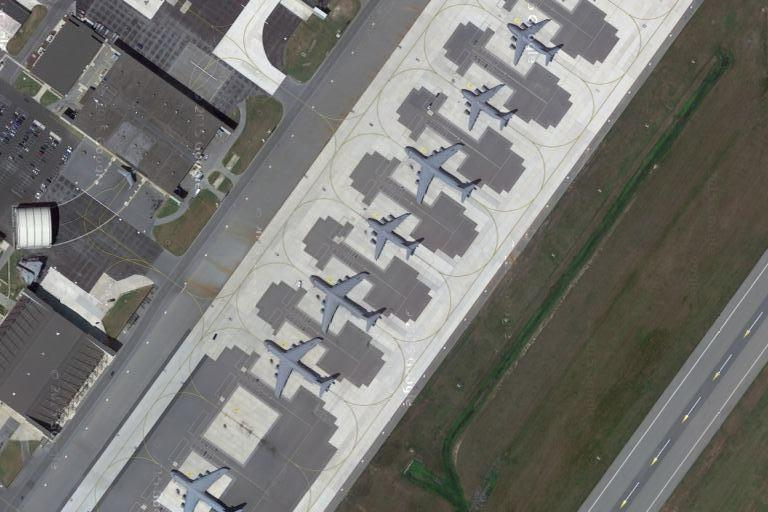C-17: (457, 76, 519, 133), (364, 208, 424, 263), (503, 13, 565, 66)
KC-135: (263, 331, 340, 403), (309, 269, 388, 339), (401, 142, 486, 206), (162, 464, 252, 512)
